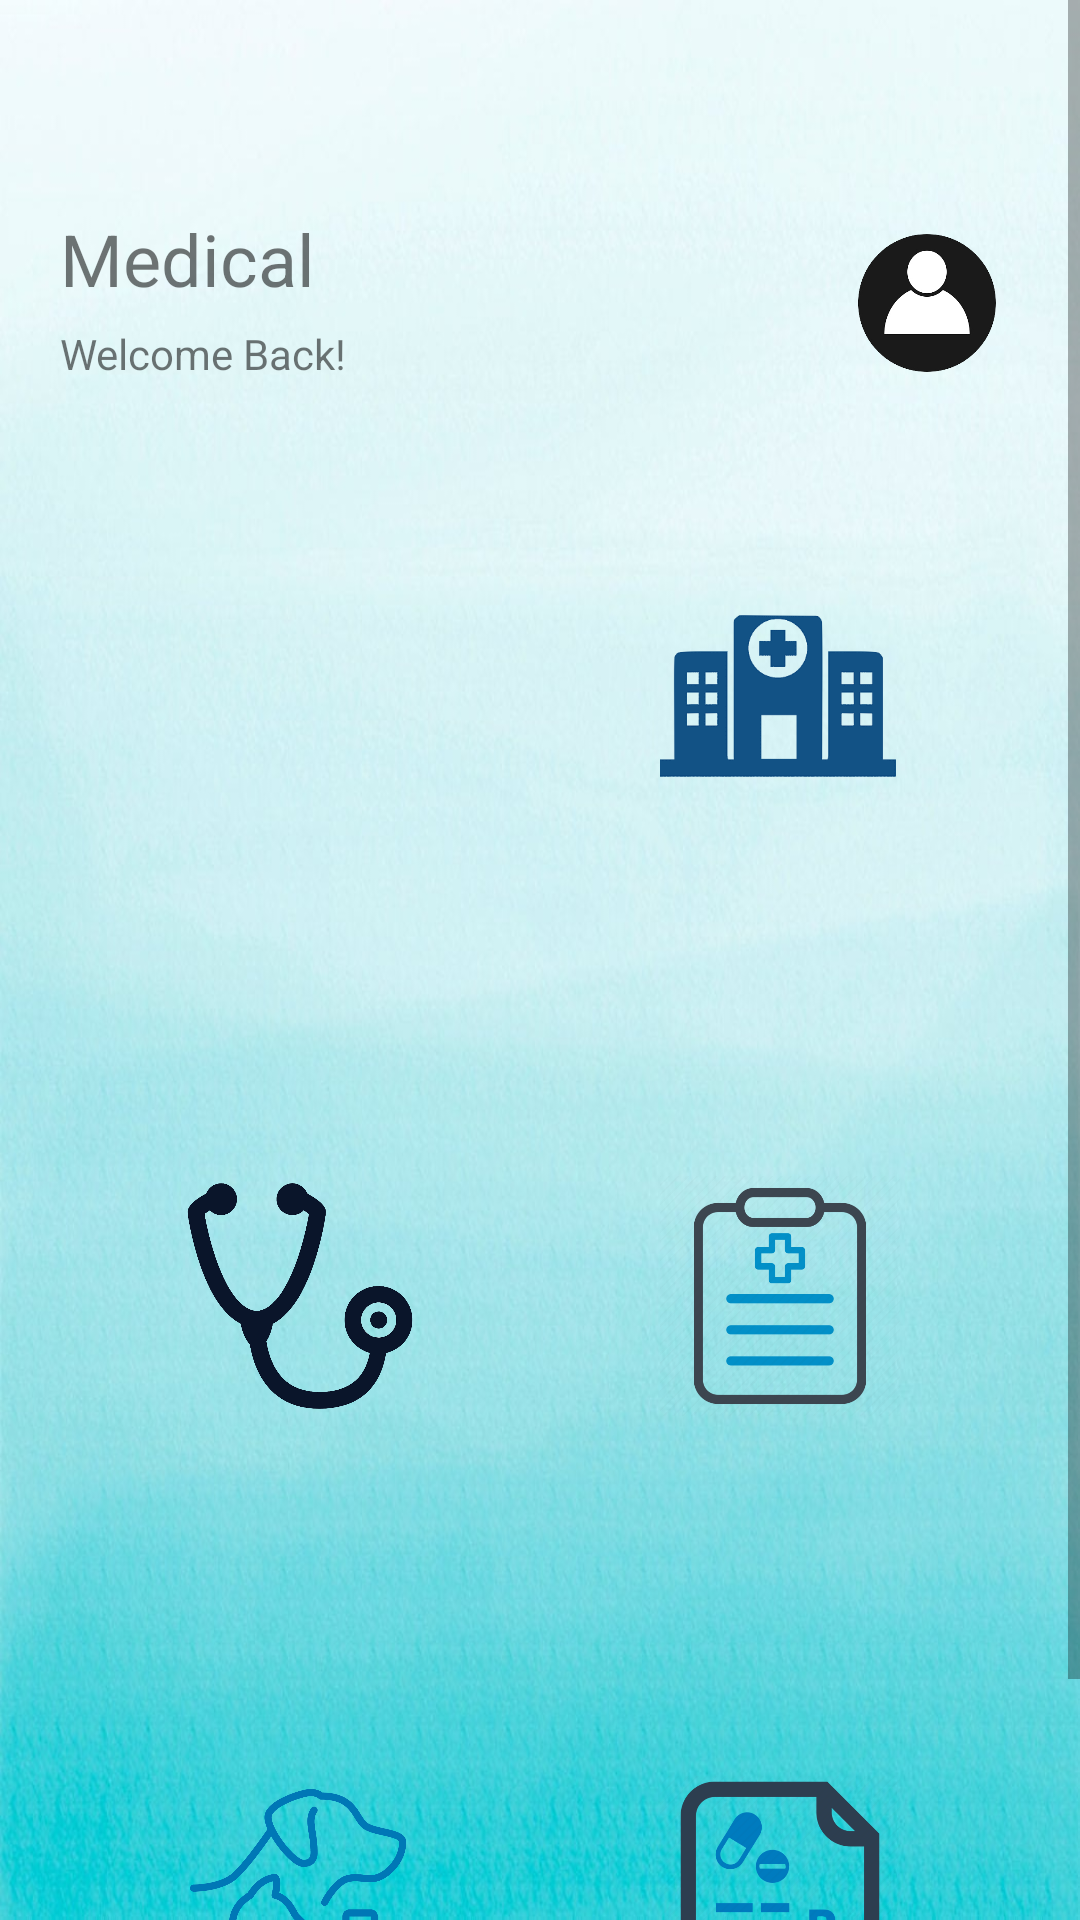

Icon click points for this 1080×1920 phone screenshot, format (x,y):
Diagnosis: (303,1297)
Doctor Notes: (780,1296)
Find a Hospital: (778,696)
